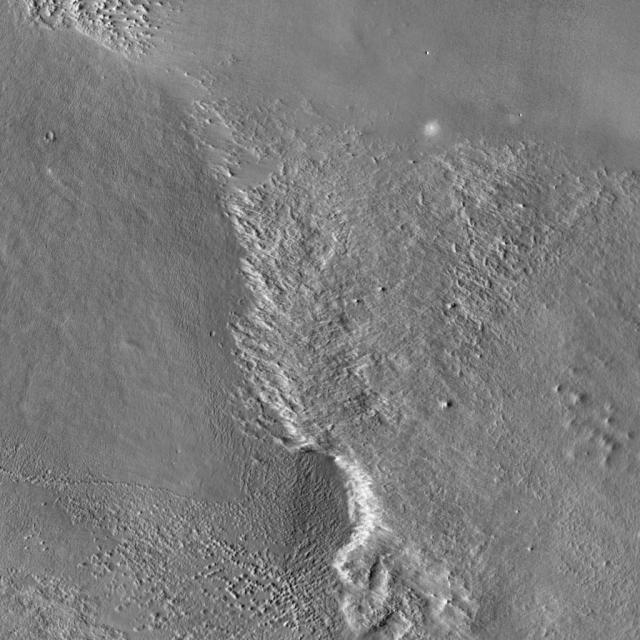crater: (46, 132, 54, 140)
